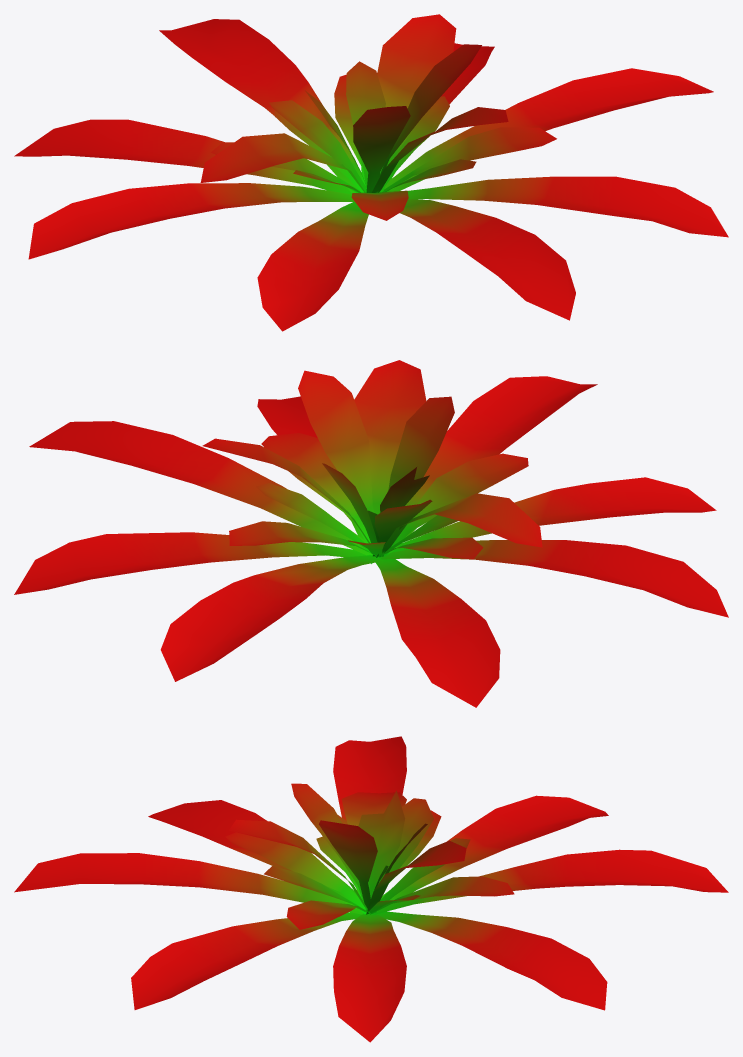
The model's file is Var14_LOD0.fbx.
3 renders of one model, top to bottom at view 1: azimuth 30°, elevation 25°; view 2: azimuth 150°, elevation 25°; view 3: azimuth 270°, elevation 25°, orthographic. The views are drawn at different scales.
Parts seen in each view (by area): view 1: _9645_Var14_LOD0; view 2: _9645_Var14_LOD0; view 3: _9645_Var14_LOD0.
Part boxes in pixels (box(x1,y1,x2,y2)): _9645_Var14_LOD0: box(14, 14, 728, 331); _9645_Var14_LOD0: box(14, 360, 728, 707); _9645_Var14_LOD0: box(14, 736, 728, 1042).
Bounding box in the file's own units: 29.59 × 6.31 × 29.71.
